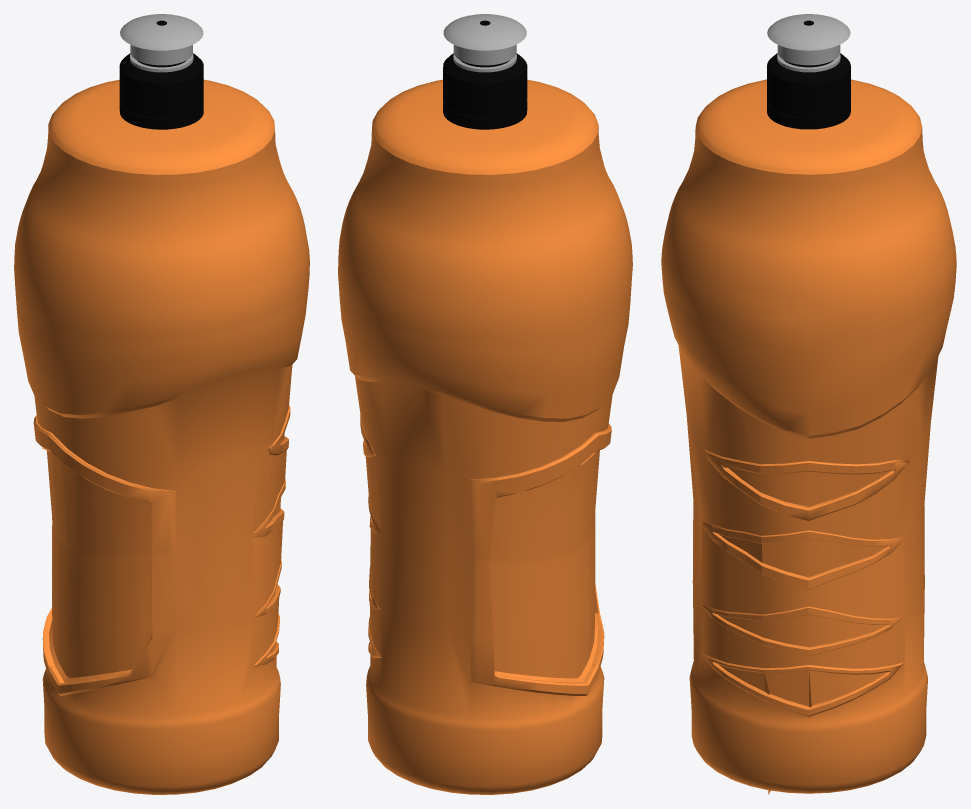
The model's file is power_up.glb.
3 views of the same model, side by side, from view 1: azimuth 30°, elevation 25°; view 2: azimuth 150°, elevation 25°; view 3: azimuth 270°, elevation 25° (orthographic).
Parts seen in each view (by area): view 1: Orange Bottle_0; view 2: Orange Bottle_0; view 3: Orange Bottle_0.
Part boxes in pixels (<box>): Orange Bottle_0: <box>14,14,309,794</box>; Orange Bottle_0: <box>338,14,632,794</box>; Orange Bottle_0: <box>661,14,956,794</box>.
Size of the model in its own units: 2.53 by 6.87 by 2.52.
